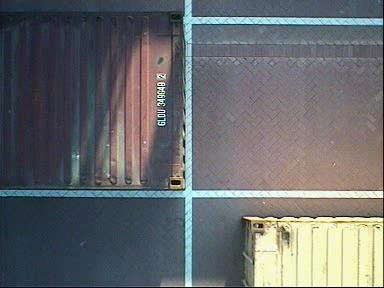groundmarker_2: (66, 161, 117, 258)
